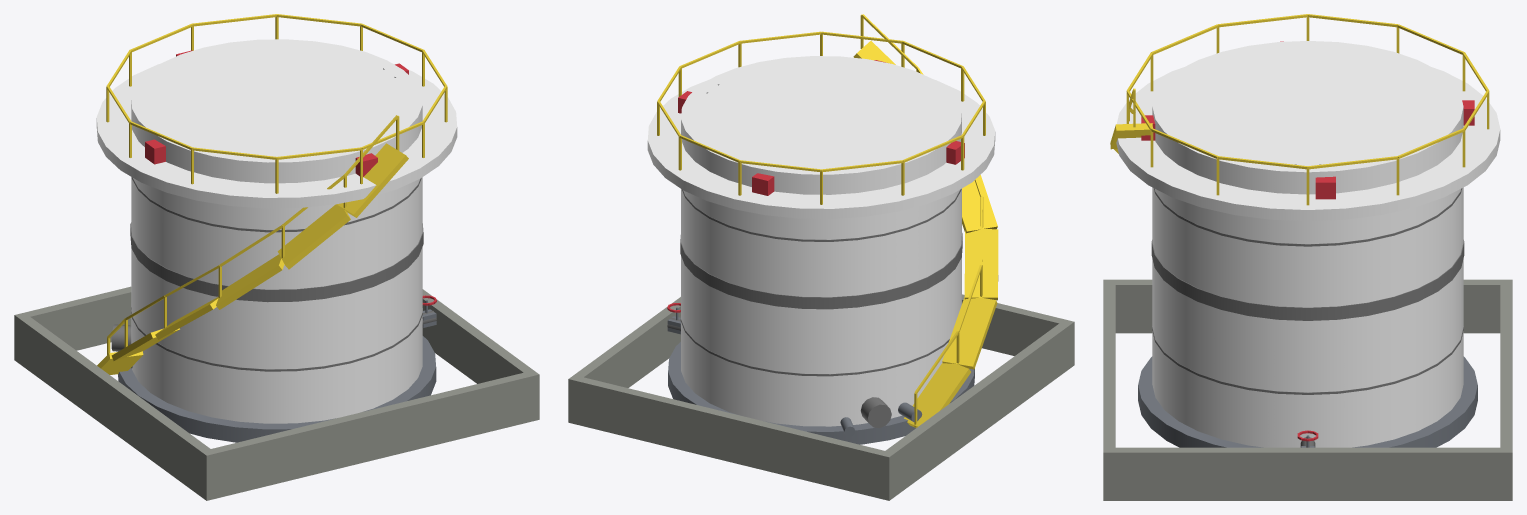
File: port_cargo1_close.fbx
3 views of the same model, side by side, from view 1: azimuth 30°, elevation 25°; view 2: azimuth 150°, elevation 25°; view 3: azimuth 270°, elevation 25° (orthographic). The views are drawn at different scales.
Visible parts, largest first — view 1: a402_0_port_cargo1_close; view 2: a402_0_port_cargo1_close; view 3: a402_0_port_cargo1_close.
Part boxes in pixels (bbox=[...]): a402_0_port_cargo1_close: bbox=[14, 14, 539, 500]; a402_0_port_cargo1_close: bbox=[568, 14, 1074, 500]; a402_0_port_cargo1_close: bbox=[1103, 14, 1512, 500].
Bounding box in the file's own units: 10 × 9.32 × 10.
